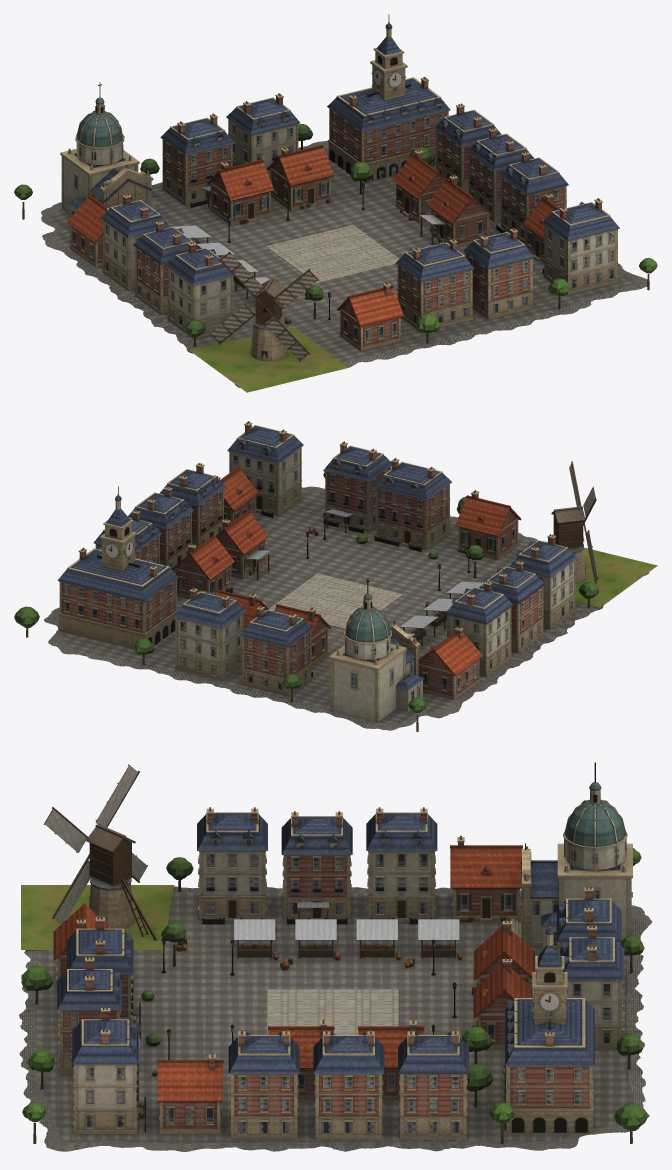
File: gunpowder-town-medium-b-europe.glb
3 renders of one model, top to bottom at view 1: azimuth 30°, elevation 25°; view 2: azimuth 150°, elevation 25°; view 3: azimuth 270°, elevation 25°, orthographic. The views are drawn at different scales.
Visible parts, largest first — view 1: LOD0; view 2: LOD0; view 3: LOD0.
Part boxes in pixels (x1=…): LOD0: x1=14, y1=14, x2=657, y2=392; LOD0: x1=14, y1=421, x2=657, y2=731; LOD0: x1=19, y1=762, x2=652, y2=1151.
Size of what is drawn, in the model's own units: 6.03 by 2 by 6.09.
Materials: 3 (3 with a texture image).
